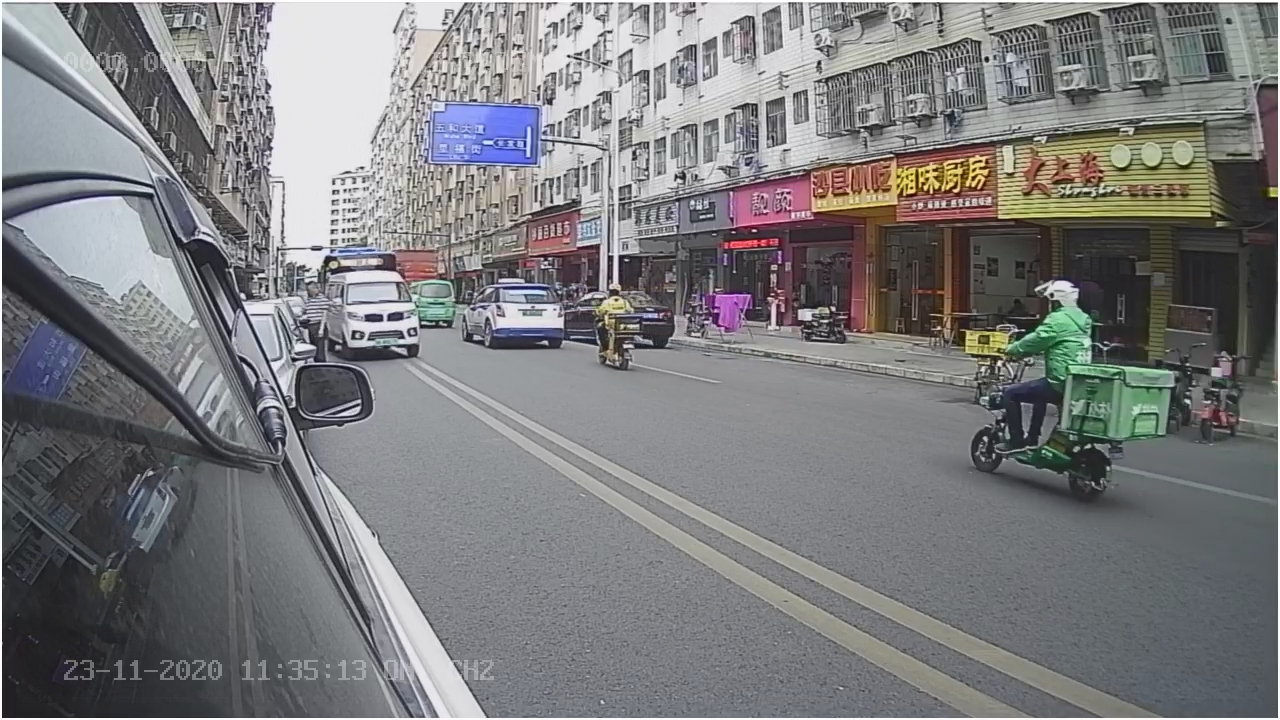person: (1003, 267, 1099, 371)
